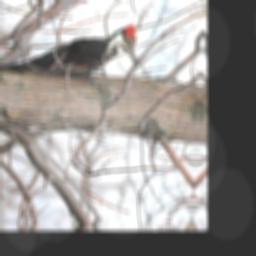Woodpecker: (0, 18, 142, 85)
